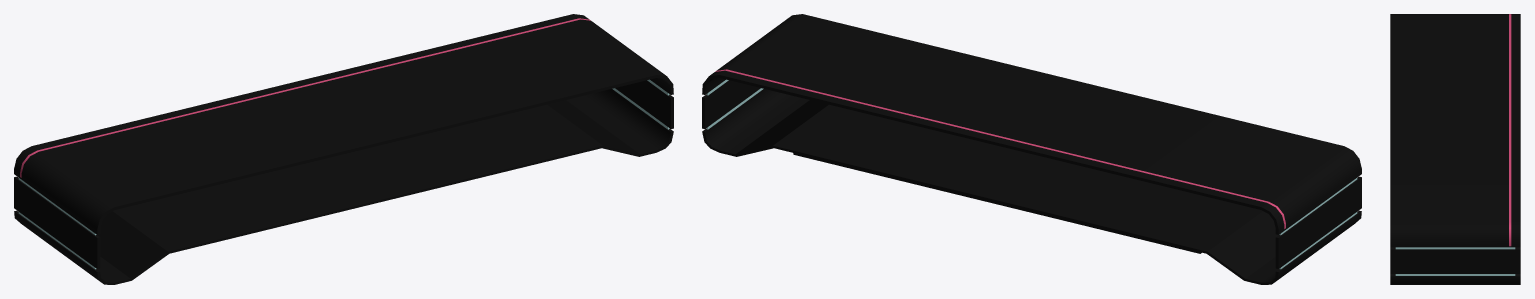
The model's file is W_O_Bench_001_L1.fbx.
The picture shows the model from 3 angles, left to right: view 1: azimuth 30°, elevation 25°; view 2: azimuth 150°, elevation 25°; view 3: azimuth 270°, elevation 25°; orthographic projection. The views are drawn at different scales.
Parts seen in each view (by area): view 1: W_O_Bench_001_L1; view 2: W_O_Bench_001_L1; view 3: W_O_Bench_001_L1.
Part boxes in pixels (<box>): W_O_Bench_001_L1: <box>14,14,673,284</box>; W_O_Bench_001_L1: <box>702,14,1361,284</box>; W_O_Bench_001_L1: <box>1390,14,1520,284</box>.
Bounding box in the file's own units: 2 × 0.258 × 0.5.
